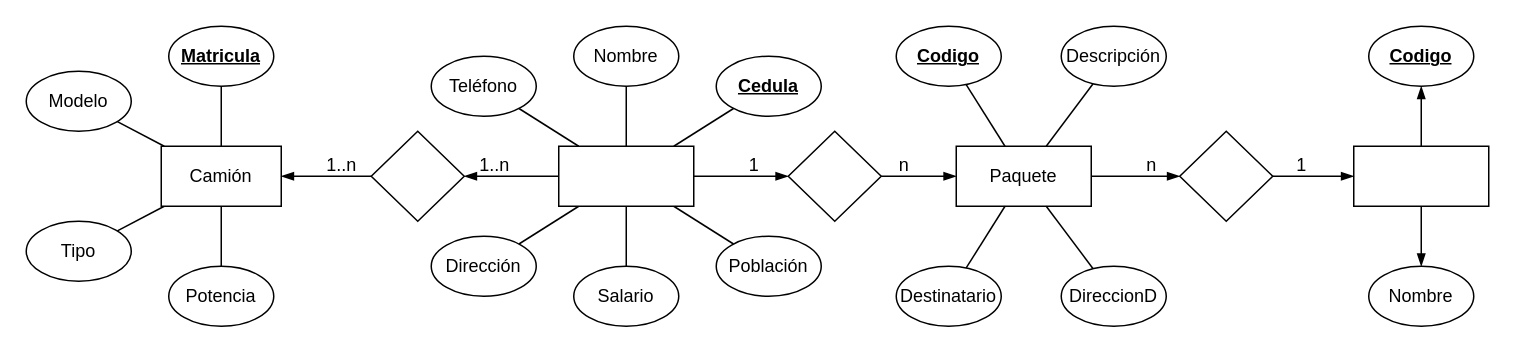
Image size: 1515x353. Some labels were removed from this diagram. Here are the shapes that lost their labels. From the top down, the centre of each, then its label:
At pixel 417 175: "Conduce".
At pixel 625 175: "Camionero".
At pixel 834 175: "Distribuye".
At pixel 1225 175: "Llega".
At pixel 1420 175: "Provincia".
